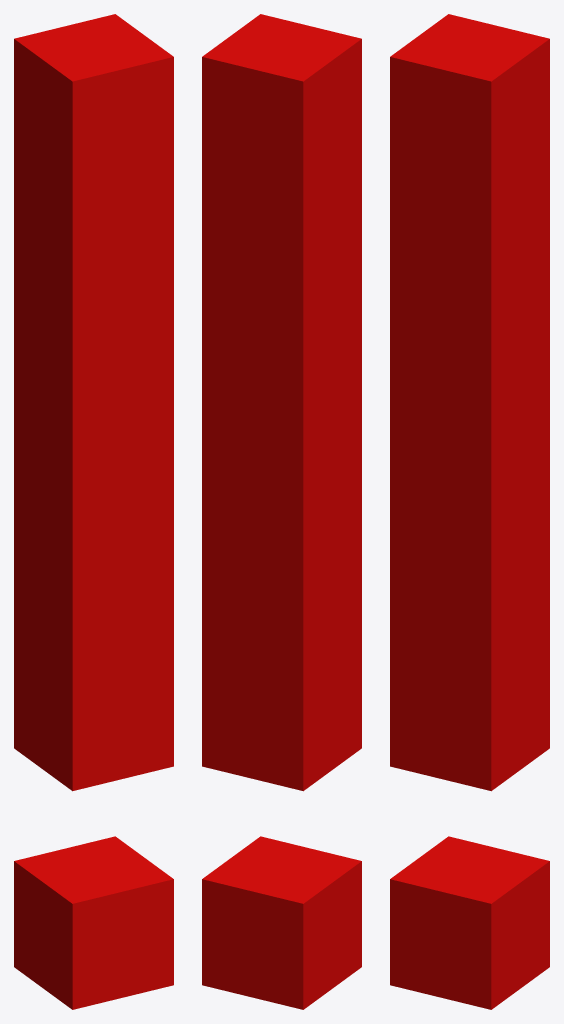
The model's file is exclaimationmark.fbx.
The picture shows the model from 3 angles, left to right: view 1: azimuth 30°, elevation 25°; view 2: azimuth 150°, elevation 25°; view 3: azimuth 330°, elevation 25°; orthographic projection.
Parts seen in each view (by area): view 1: Cube; view 2: Cube; view 3: Cube.
Boxes of the visible parts, <box> form: Cube: <box>14,14,173,1009</box>; Cube: <box>202,14,361,1009</box>; Cube: <box>390,14,549,1009</box>.
Size of the model in its own units: 65.98 by 577 by 65.98.
